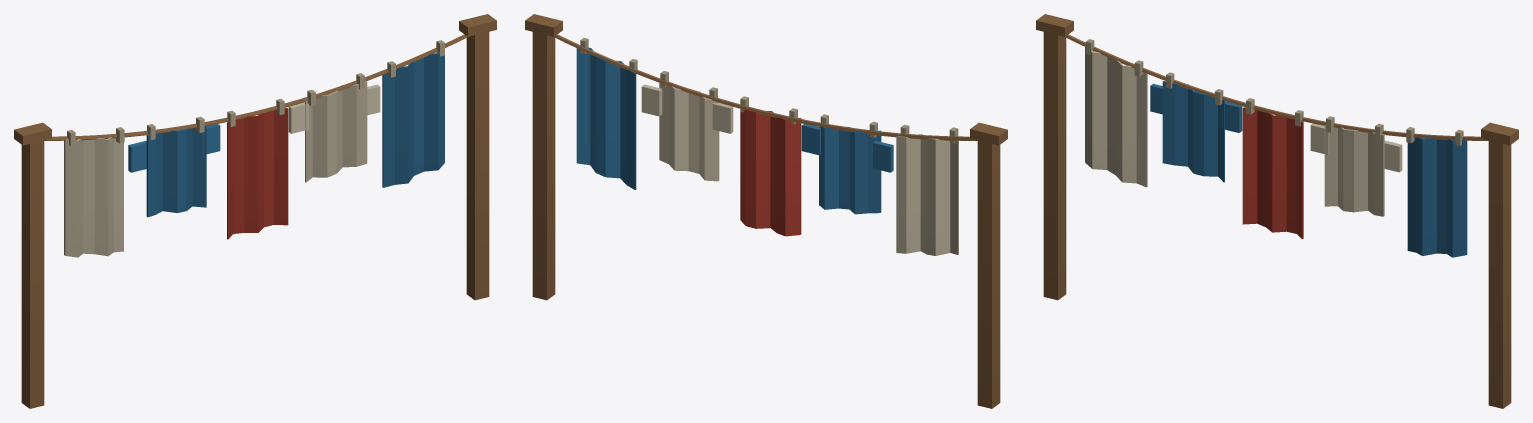
Rendered from town_laundry.glb.
3 views of the same model, side by side, from view 1: azimuth 30°, elevation 25°; view 2: azimuth 150°, elevation 25°; view 3: azimuth 330°, elevation 25° (orthographic).
Visible parts, largest first — view 1: town_laundry; view 2: town_laundry; view 3: town_laundry.
Part boxes in pixels (x1=…): town_laundry: x1=14, y1=14, x2=496, y2=408; town_laundry: x1=525, y1=14, x2=1007, y2=408; town_laundry: x1=1036, y1=14, x2=1518, y2=408.
Bounding box in the file's own units: 4.26 × 2.36 × 0.14.
